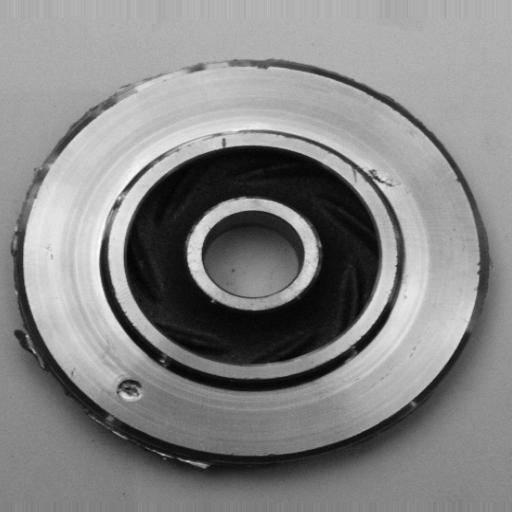casting_with_burr: (8, 54, 493, 474)
crack: (345, 152, 410, 198)
pit: (108, 370, 156, 411)
scratch: (148, 122, 295, 154)
